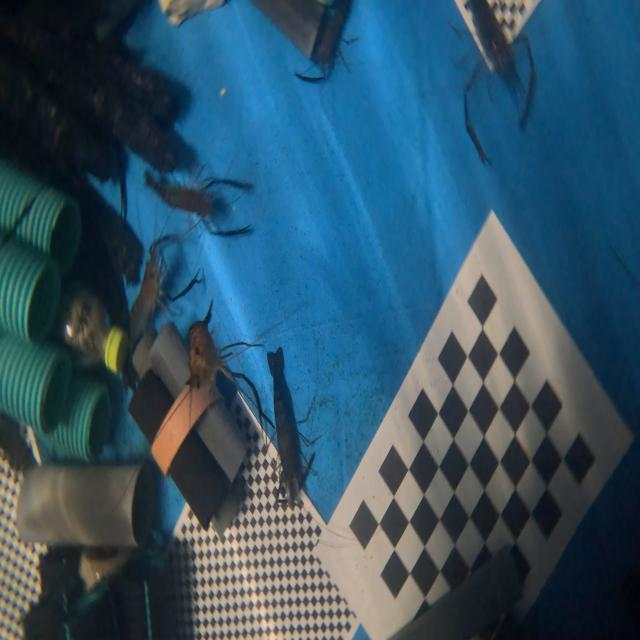prawn: (268, 349, 309, 501), (456, 0, 511, 72), (146, 174, 229, 218), (130, 245, 161, 346), (188, 323, 220, 389)
